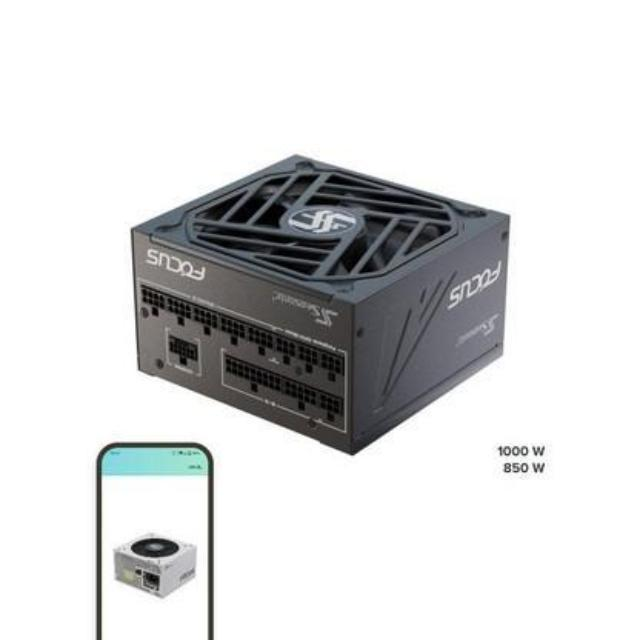PSU: (116, 136, 516, 448)
